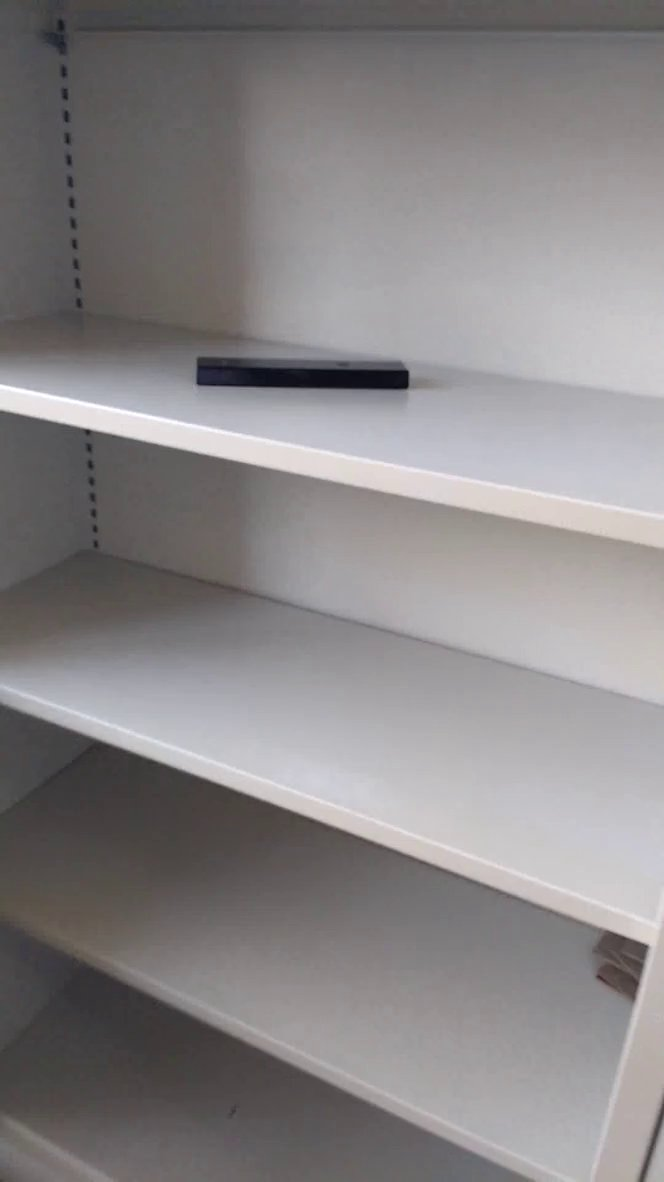remote: (188, 344, 435, 403)
